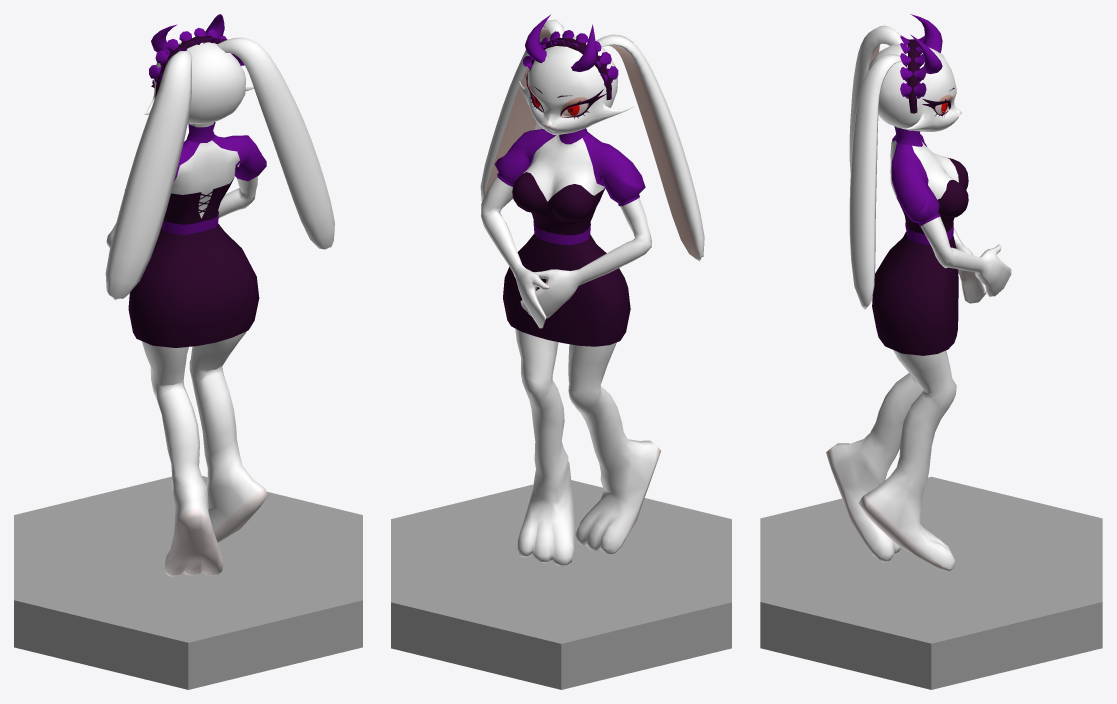
File: usagi_Missionary 1.fbx
3 views of the same model, side by side, from view 1: azimuth 30°, elevation 25°; view 2: azimuth 150°, elevation 25°; view 3: azimuth 270°, elevation 25° (orthographic). The views are drawn at different scales.
Visible parts, largest first — view 1: usagi_Missionary; view 2: usagi_Missionary; view 3: usagi_Missionary.
Boxes of the visible parts, x1,y1,x2,y2 form: usagi_Missionary: (14, 14, 362, 689); usagi_Missionary: (391, 14, 731, 689); usagi_Missionary: (760, 14, 1102, 689).
Size of the model in its own units: 1004 by 1632 by 869.
